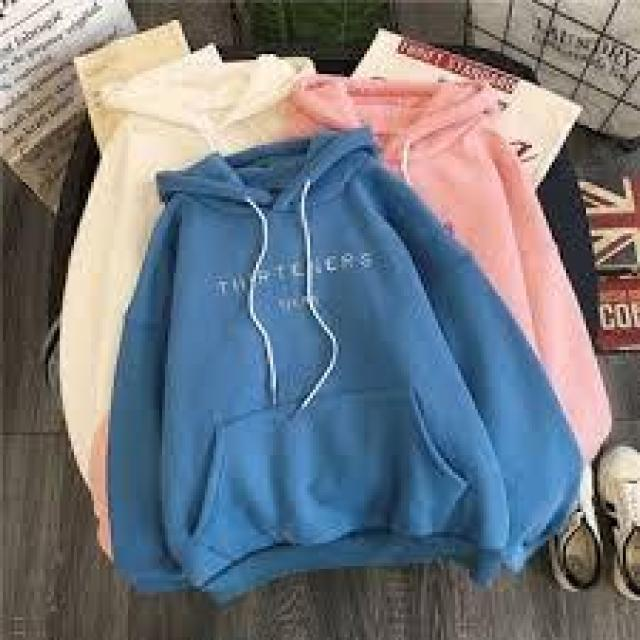sweater: (101, 139, 585, 586)
